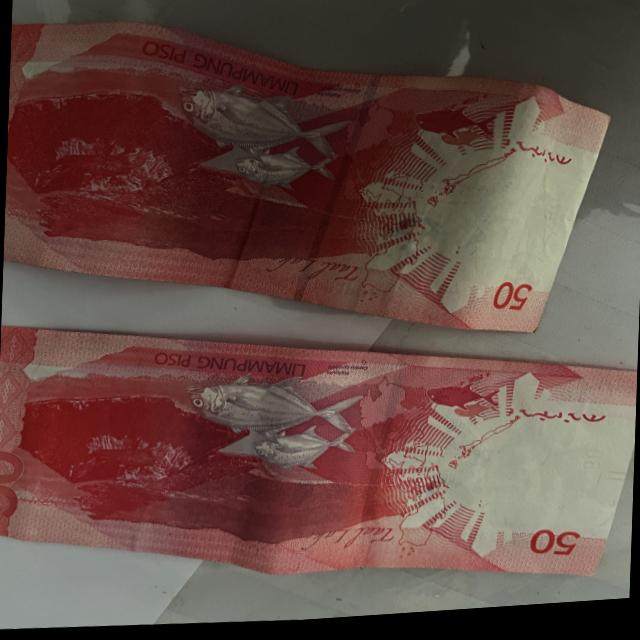50_maliputo: (170, 64, 360, 208), (180, 363, 362, 493)
50_maliputo_watermark: (412, 380, 511, 438), (408, 105, 503, 163)
value_watermark: (578, 449, 605, 482)
